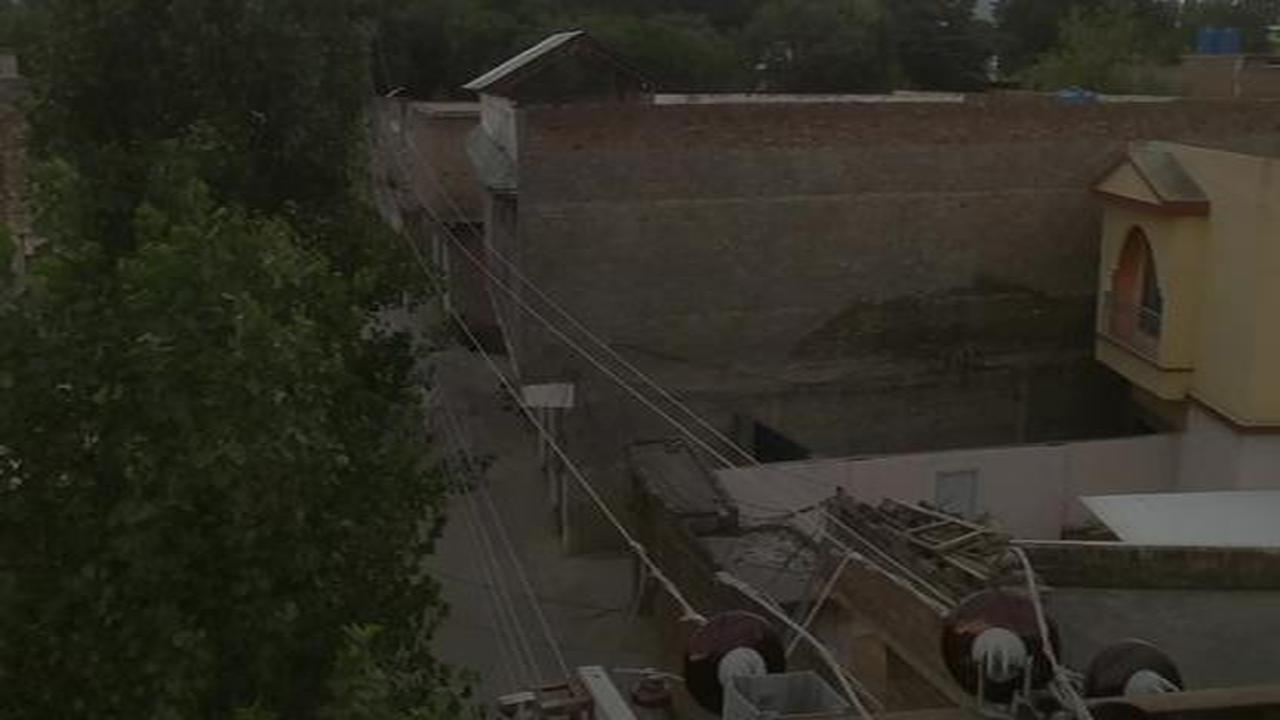insulator_disc: (939, 590, 1060, 691), (678, 608, 793, 693), (1081, 639, 1188, 699)
